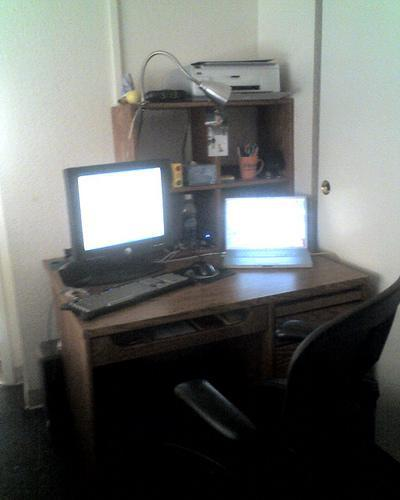tv: (49, 165, 194, 299), (215, 194, 317, 274)
